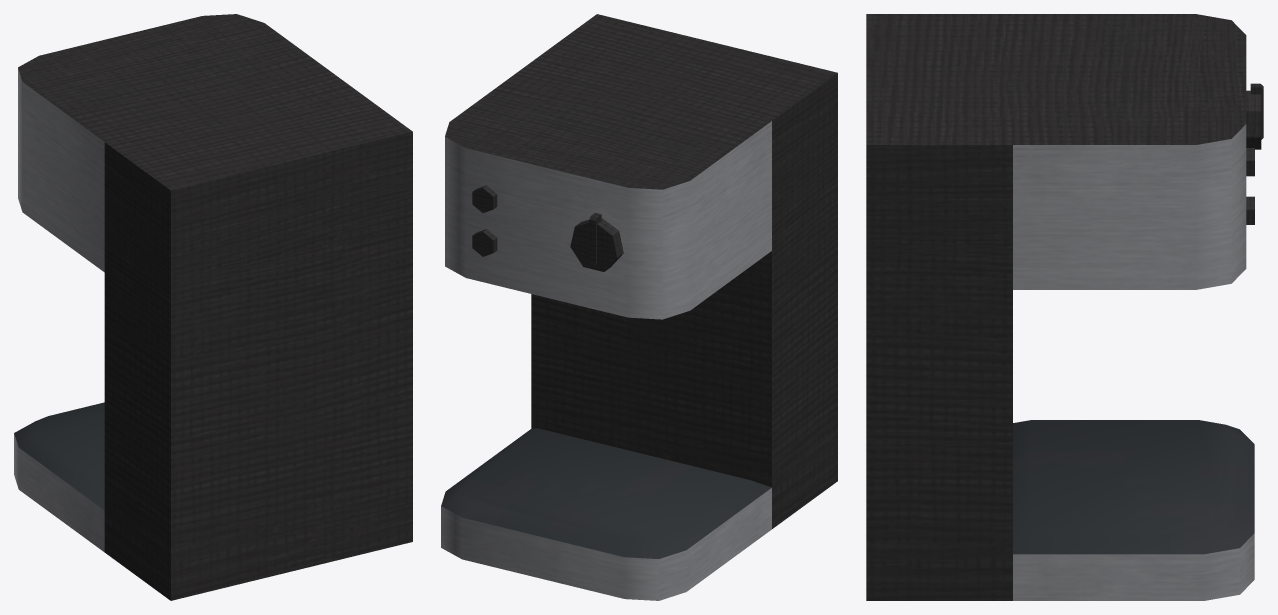
File: Coffee_maker_01-col.glb
3 views of the same model, side by side, from view 1: azimuth 30°, elevation 25°; view 2: azimuth 150°, elevation 25°; view 3: azimuth 270°, elevation 25° (orthographic). The views are drawn at different scales.
Parts seen in each view (by area): view 1: Coffee_maker_01-col; view 2: Coffee_maker_01-col, Button; view 3: Coffee_maker_01-col, Button.
Boxes of the visible parts, left/top/right/bottom form: Coffee_maker_01-col: left=14, top=14, right=412, bottom=600; Coffee_maker_01-col: left=441, top=14, right=837, bottom=600; Button: left=570, top=213, right=623, bottom=271; Coffee_maker_01-col: left=866, top=14, right=1254, bottom=600; Button: left=1246, top=83, right=1263, bottom=149.
Bounding box in the file's own units: 0.36 × 0.5835 × 0.4611.
Materials: 3 (3 with a texture image).
